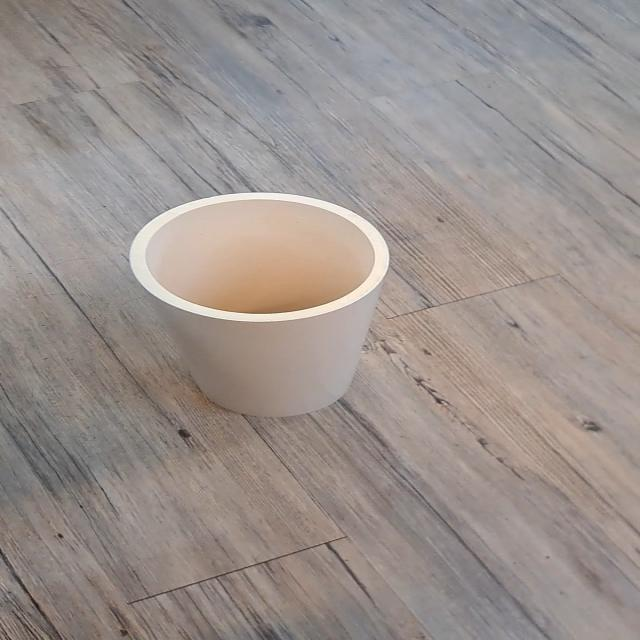CORAL: (104, 177, 404, 434)
